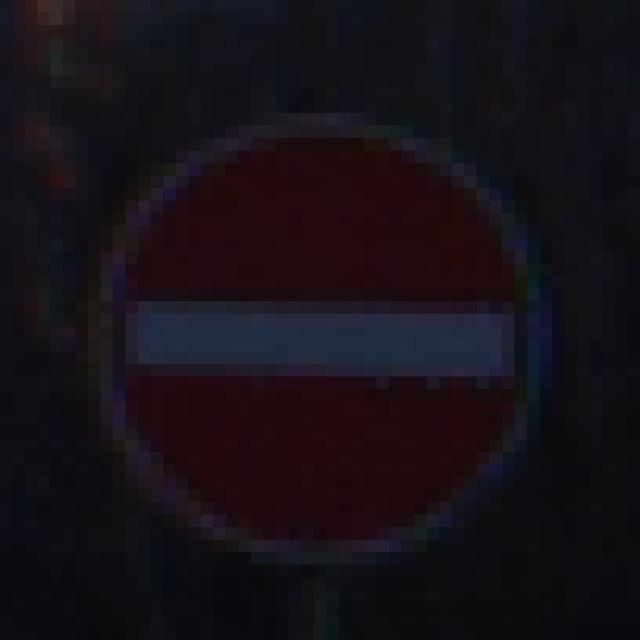No Entry: (77, 77, 579, 579)
